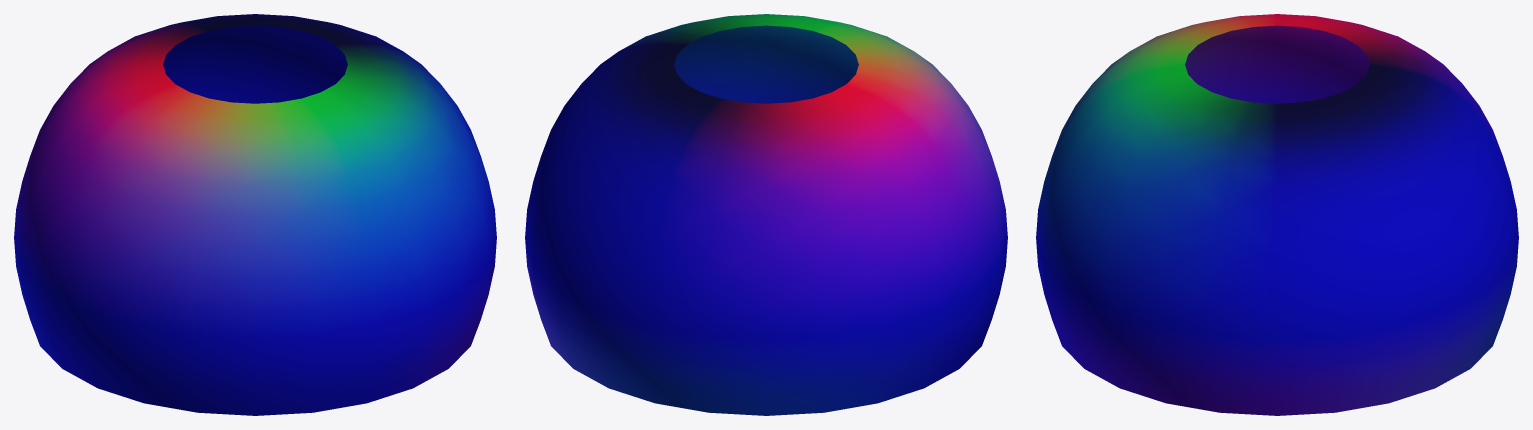
Rendered from uni_mushroom.fbx.
The picture shows the model from 3 angles, left to right: view 1: azimuth 30°, elevation 25°; view 2: azimuth 150°, elevation 25°; view 3: azimuth 270°, elevation 25°; orthographic projection.
Parts seen in each view (by area): view 1: uni_mushroom; view 2: uni_mushroom; view 3: uni_mushroom.
Part boxes in pixels (x1,y1,x2,y2): uni_mushroom: (14, 14, 496, 415); uni_mushroom: (525, 14, 1007, 415); uni_mushroom: (1036, 14, 1518, 415).
Size of the model in its own units: 19200 by 11274 by 19200.
